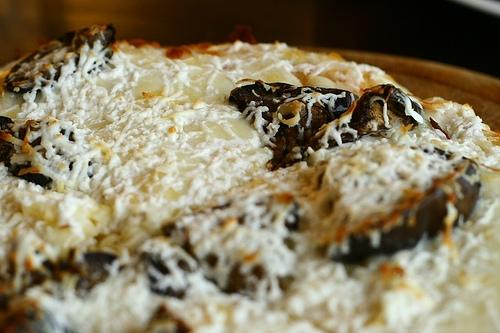mushroom: (331, 156, 482, 266), (227, 80, 362, 170), (5, 24, 115, 94), (138, 228, 202, 300), (350, 84, 424, 136), (204, 261, 270, 295), (84, 252, 118, 274), (40, 37, 62, 52), (220, 217, 238, 230)
